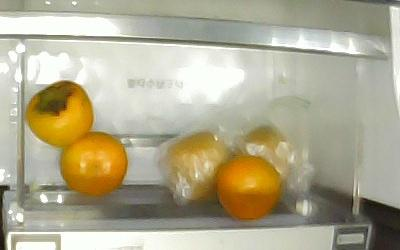persimmon: (25, 81, 94, 147), (217, 155, 282, 220), (60, 133, 128, 195)
persimmon_vinyl: (164, 132, 232, 200), (240, 128, 292, 179)
